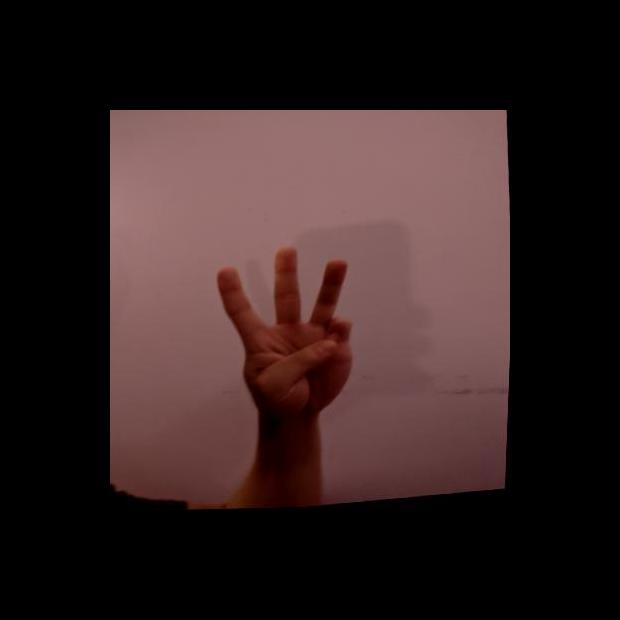V: (209, 239, 369, 428)
